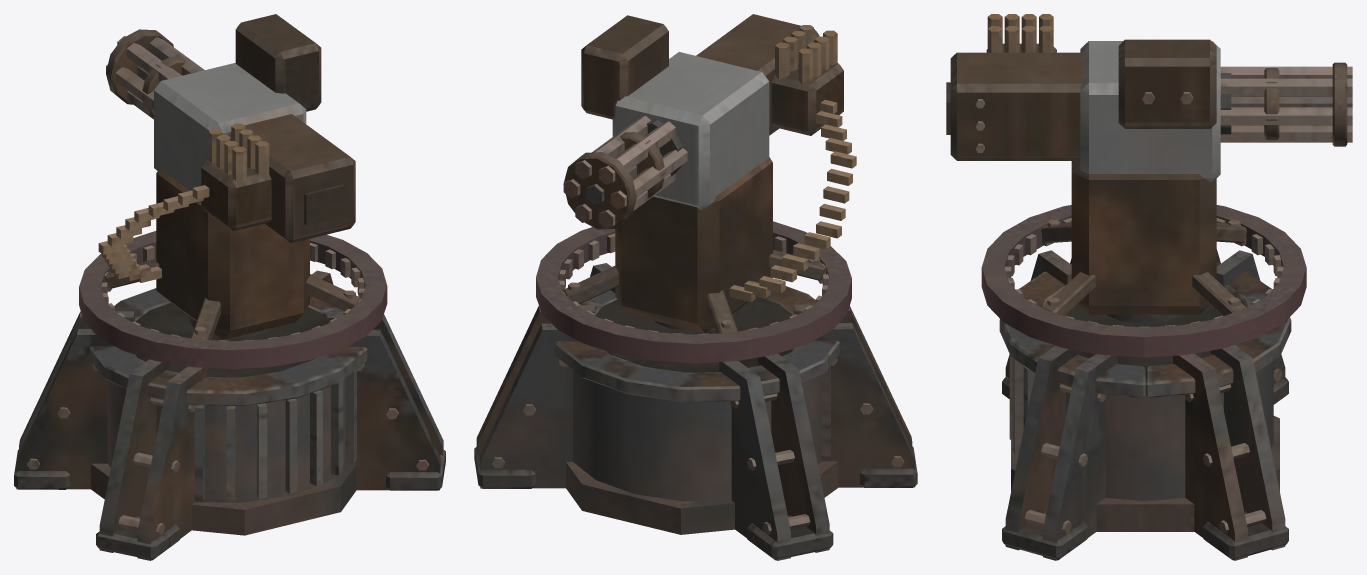
The model's file is gun-turret.glb.
The picture shows the model from 3 angles, left to right: view 1: azimuth 30°, elevation 25°; view 2: azimuth 150°, elevation 25°; view 3: azimuth 270°, elevation 25°; orthographic projection. The views are drawn at different scales.
Visible parts, largest first — view 1: body, anim_turret_head; view 2: anim_turret_head, body; view 3: anim_turret_head, body.
Boxes of the visible parts, x1,y1,x2,y2 form: body: (14, 270, 445, 560); anim_turret_head: (79, 14, 387, 369); anim_turret_head: (536, 14, 856, 363); body: (474, 263, 917, 560); anim_turret_head: (946, 14, 1352, 357); body: (999, 249, 1291, 560).
Bounding box in the file's own units: 1.98 × 2.3 × 1.87.
Materials: 1 (1 with a texture image).
